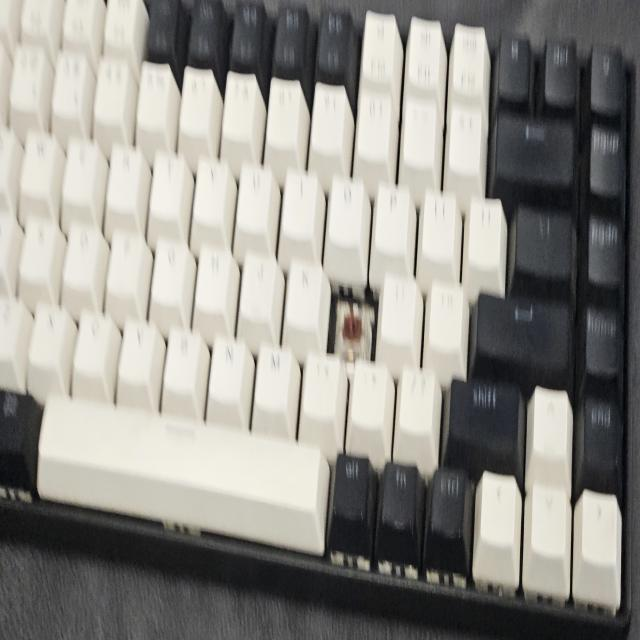C: (341, 298, 364, 352)
